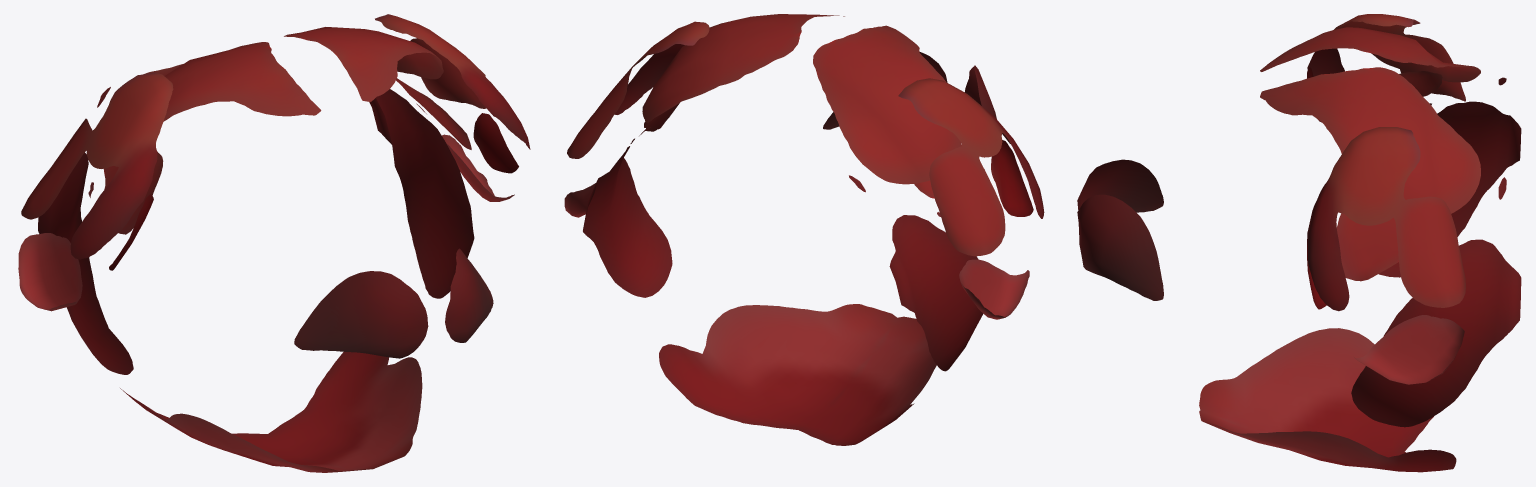
The model's file is dog.fbx.
3 renders of one model, left to right at view 1: azimuth 30°, elevation 25°; view 2: azimuth 150°, elevation 25°; view 3: azimuth 270°, elevation 25°, orthographic. The views are drawn at different scales.
Parts seen in each view (by area): view 1: polySurface33; view 2: polySurface33; view 3: polySurface33.
Boxes of the visible parts, <box> form: polySurface33: <box>18,14,530,472</box>; polySurface33: <box>564,14,1044,445</box>; polySurface33: <box>1077,14,1521,472</box>.
Size of the model in its own units: 53.21 by 43.59 by 44.6.
1 material, 1 textured.
